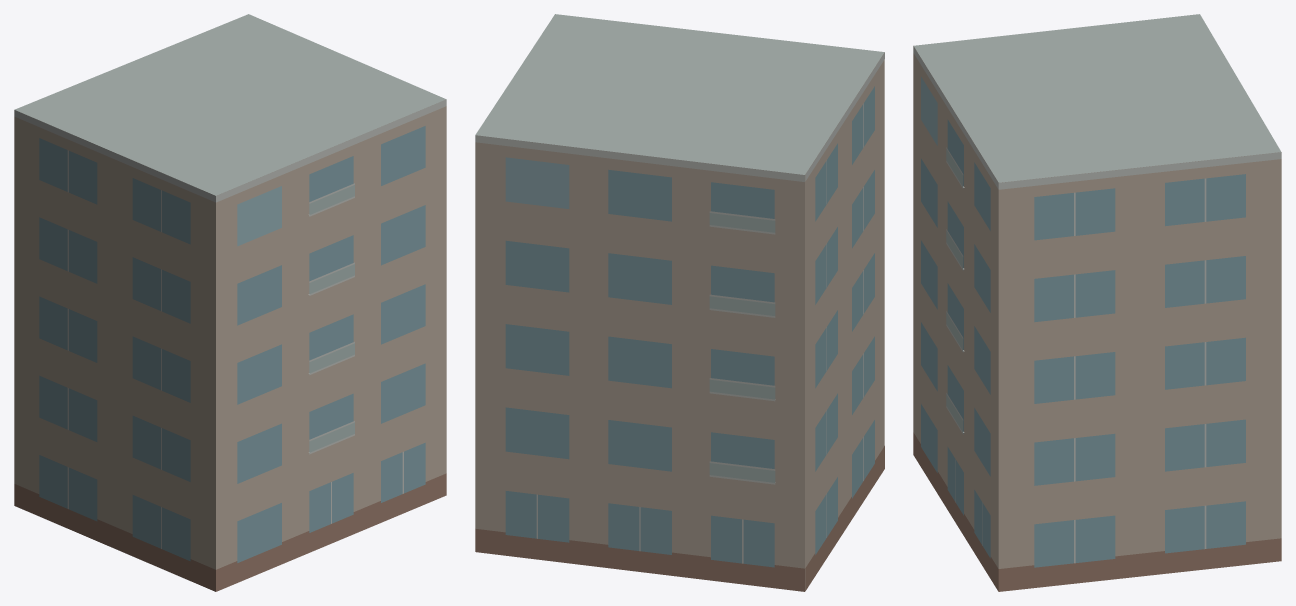
File: survey-upis-32696040.glb
3 renders of one model, left to right at view 1: azimuth 30°, elevation 25°; view 2: azimuth 150°, elevation 25°; view 3: azimuth 270°, elevation 25°, orthographic. The views are drawn at different scales.
Parts seen in each view (by area): view 1: survey-upis-32696040.tmp; view 2: survey-upis-32696040.tmp; view 3: survey-upis-32696040.tmp.
Boxes of the visible parts, x1,y1,x2,y2 form: survey-upis-32696040.tmp: [14, 14, 446, 591]; survey-upis-32696040.tmp: [475, 14, 884, 591]; survey-upis-32696040.tmp: [913, 14, 1281, 591].
Size of the model in its own units: 12.66 by 14.3 by 11.67.
